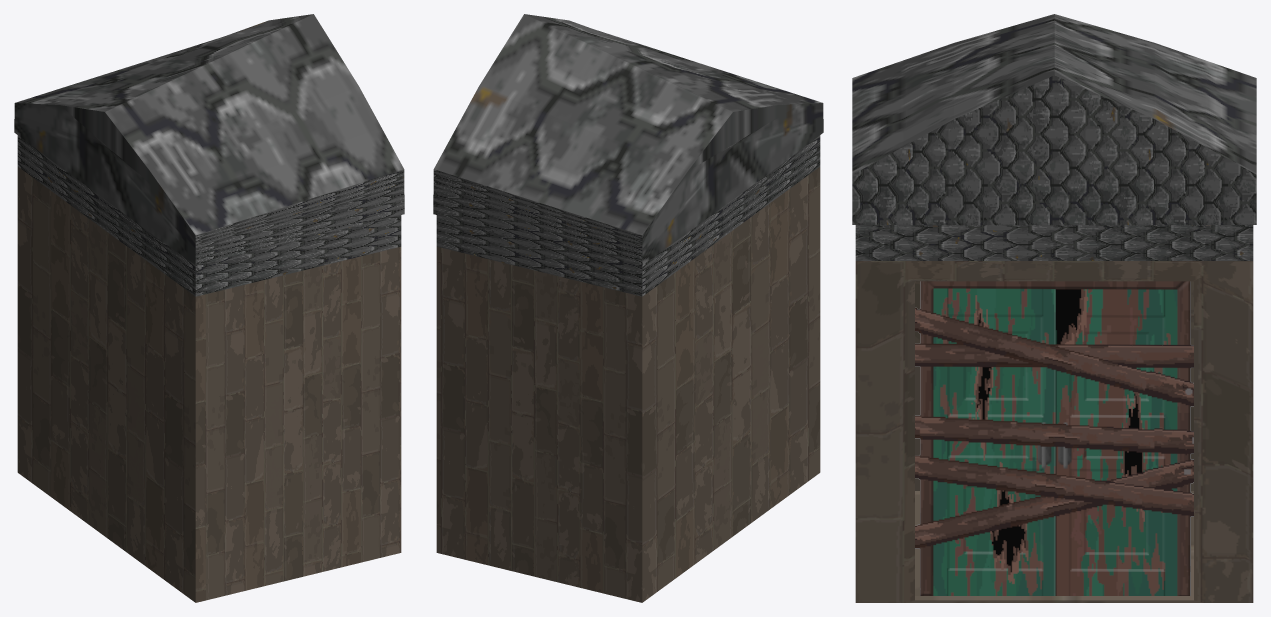
File: Shed.fbx
3 views of the same model, side by side, from view 1: azimuth 30°, elevation 25°; view 2: azimuth 150°, elevation 25°; view 3: azimuth 270°, elevation 25° (orthographic). The views are drawn at different scales.
Parts seen in each view (by area): view 1: Cube; view 2: Cube; view 3: Cube.
Part boxes in pixels (bbox=[...]): Cube: bbox=[14, 14, 404, 602]; Cube: bbox=[433, 14, 823, 602]; Cube: bbox=[852, 14, 1256, 602].
Bounding box in the file's own units: 205 × 440 × 305.
Materials: 3 (3 with a texture image).
